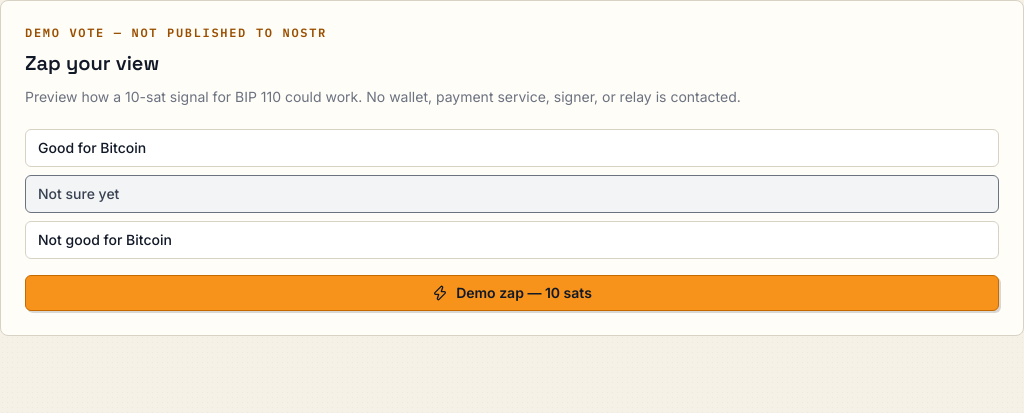
Test: sentiment presentation › keeps demo voting local and labels it honestly
Expected: the text "Demo vote — not published to Nostr" is shown, [25,25,327,40]
Step 1. Click the button "Good for Bitcoin" → (92, 148), box [25,129,999,167]
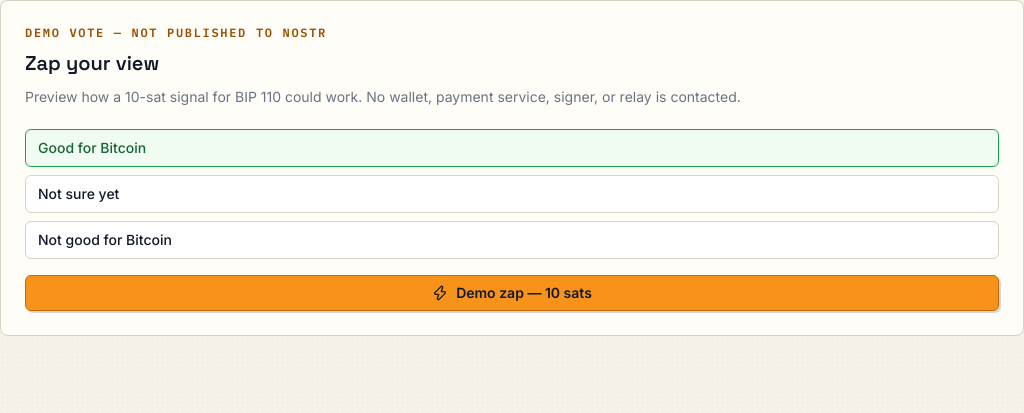
Step 2. Click the button "Demo zap — 10 sats" → (512, 293), box [25,275,999,311]
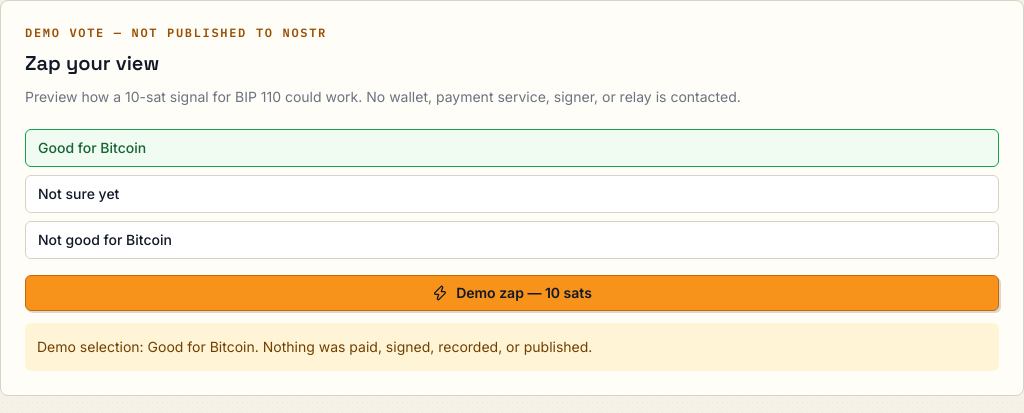
Now the message shows "Nothing was paid, signed, recorded, or published.", box [255,338,592,355]
